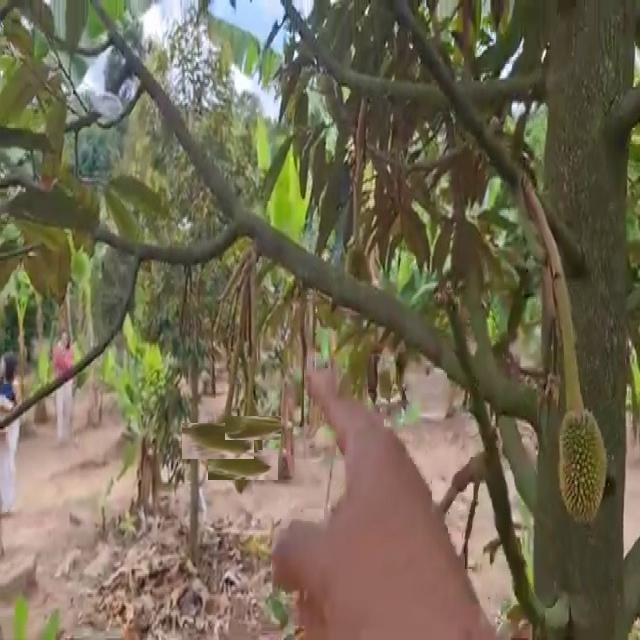durian: (554, 400, 612, 526), (191, 414, 245, 469), (218, 440, 268, 491), (341, 242, 371, 316), (232, 408, 273, 448)
